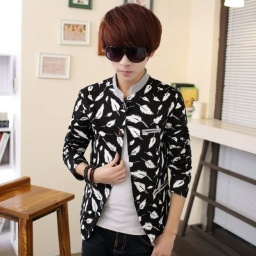face: (98, 3, 161, 81)
